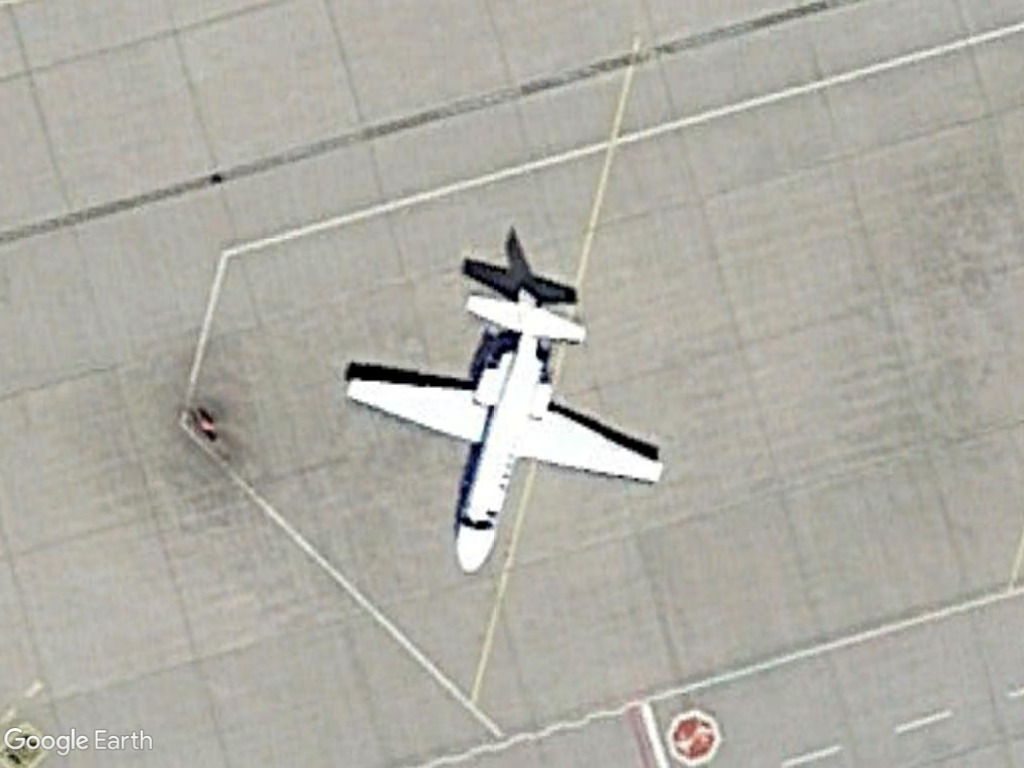chartered: (342, 287, 667, 581)
